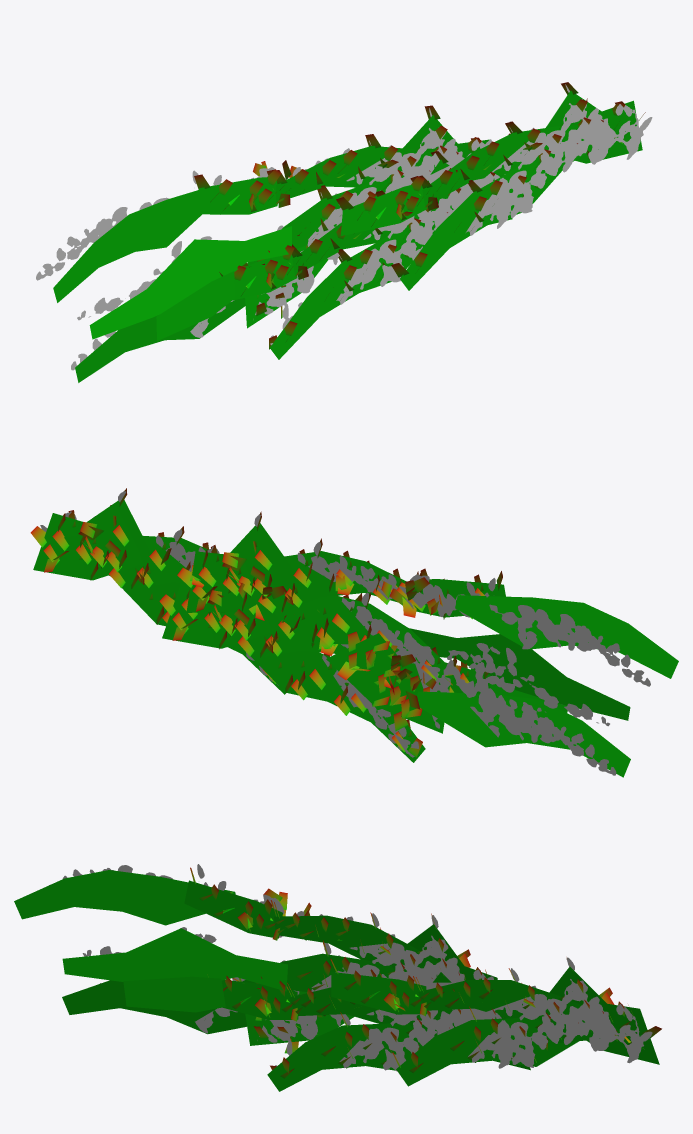
The model's file is Ivy_A7.fbx.
The picture shows the model from 3 angles, top to bottom: view 1: azimuth 30°, elevation 25°; view 2: azimuth 150°, elevation 25°; view 3: azimuth 330°, elevation 25°; orthographic projection.
Parts seen in each view (by area): view 1: Ivy_A7_LOD0, Ivy_A7_BillbBoard; view 2: Ivy_A7_LOD0, Ivy_A7_BillbBoard; view 3: Ivy_A7_LOD0, Ivy_A7_BillbBoard.
Part boxes in pixels (<box>): Ivy_A7_LOD0: <box>53,82,645,382</box>; Ivy_A7_BillbBoard: <box>36,84,652,370</box>; Ivy_A7_LOD0: <box>30,488,678,777</box>; Ivy_A7_BillbBoard: <box>40,491,650,775</box>; Ivy_A7_LOD0: <box>14,867,661,1091</box>; Ivy_A7_BillbBoard: <box>49,864,652,1071</box>.
Size of what is drawn, in the model's own units: 125 by 50.32 by 12.33.
